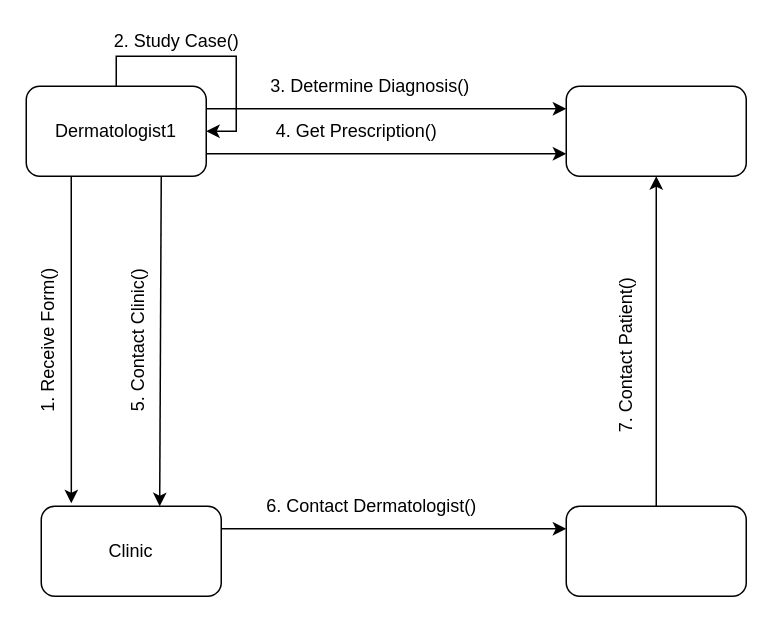
This 773x623 diagram has some shape labels left out. Here are the shapes that lost their labels. From the top down, the centre of each, then its label:
At (655,130): "Patient".
At (655,550): "Dermatologist2".
